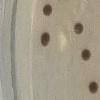brown: (86, 79, 100, 96), (40, 2, 54, 18), (79, 46, 92, 63), (40, 31, 51, 48), (73, 20, 84, 36)
